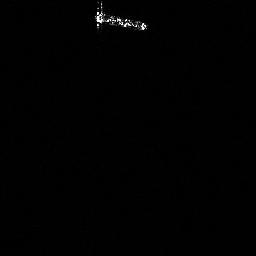ship: (93, 1, 149, 31)
